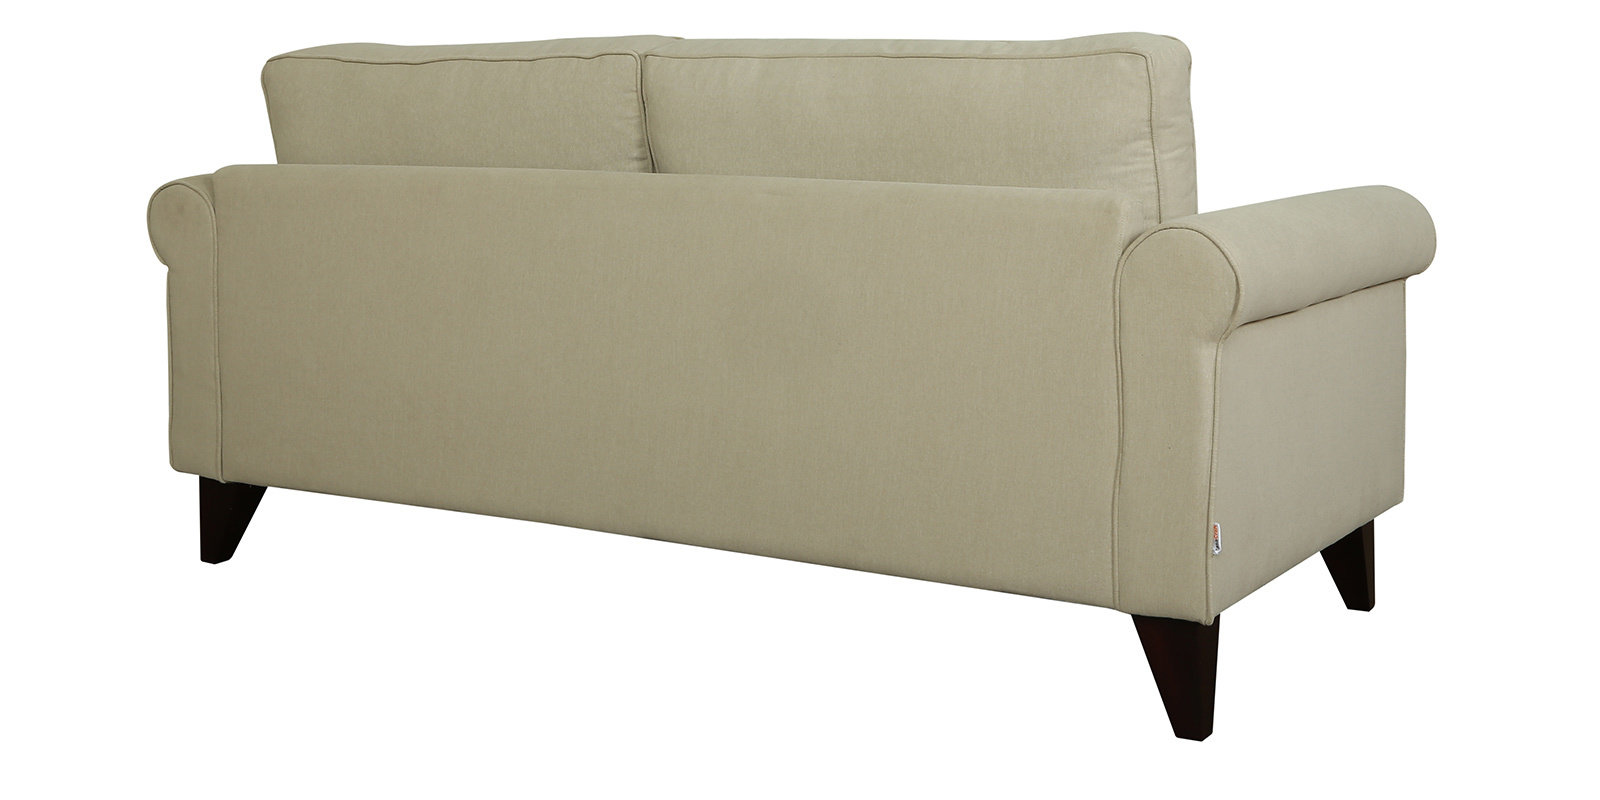Fuego Three Seater Sofa in Beige Colour by CasaCraft: (105, 14, 1428, 760)
